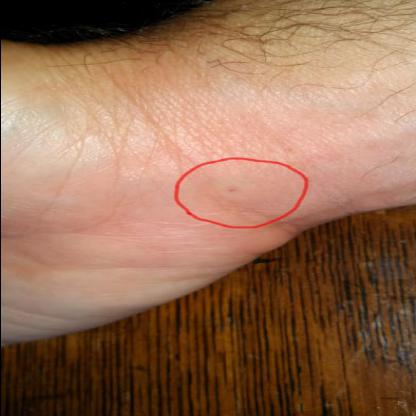Wasp: (204, 166, 268, 216)
